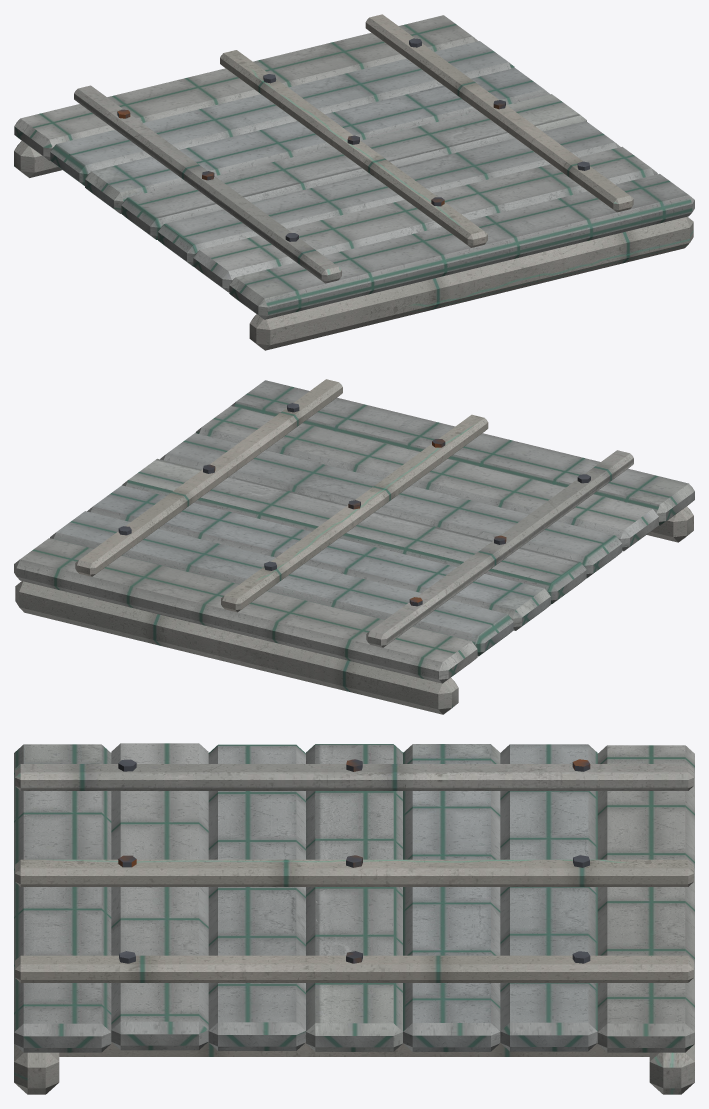
Rendered from duz_cati.glb.
3 renders of one model, top to bottom at view 1: azimuth 30°, elevation 25°; view 2: azimuth 150°, elevation 25°; view 3: azimuth 270°, elevation 25°, orthographic. The views are drawn at different scales.
Parts seen in each view (by area): view 1: duz_cati; view 2: duz_cati; view 3: duz_cati.
Part boxes in pixels (x1,y1,x2,y2): duz_cati: (14, 14, 694, 350); duz_cati: (14, 379, 694, 714); duz_cati: (14, 743, 694, 1094).
Size of the model in its own units: 3 by 0.475 by 3.
1 material, 1 textured.
